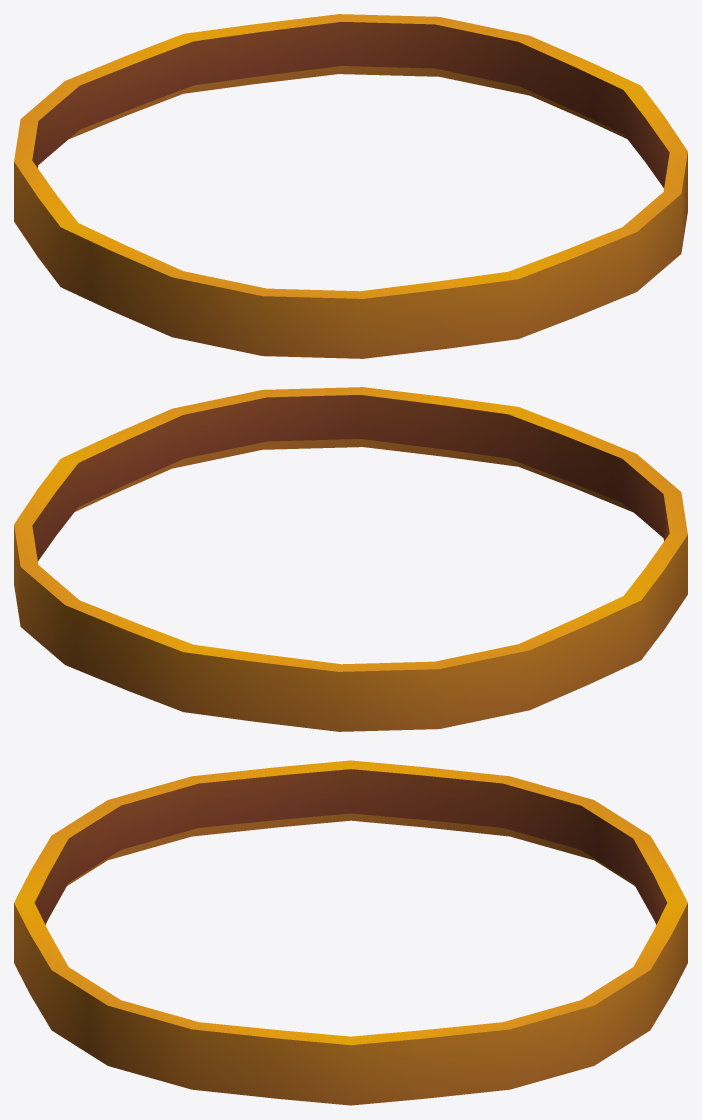
The model's file is TimePlatform.fbx.
3 views of the same model, one above another, from view 1: azimuth 30°, elevation 25°; view 2: azimuth 150°, elevation 25°; view 3: azimuth 270°, elevation 25° (orthographic).
Parts seen in each view (by area): view 1: TimePlatform; view 2: TimePlatform; view 3: TimePlatform.
Part boxes in pixels (left/top/right/bottom): TimePlatform: left=14, top=14, right=687, bottom=358; TimePlatform: left=14, top=387, right=687, bottom=731; TimePlatform: left=14, top=760, right=687, bottom=1105.
Size of the model in its own units: 5.64 by 5.64 by 0.5568.
